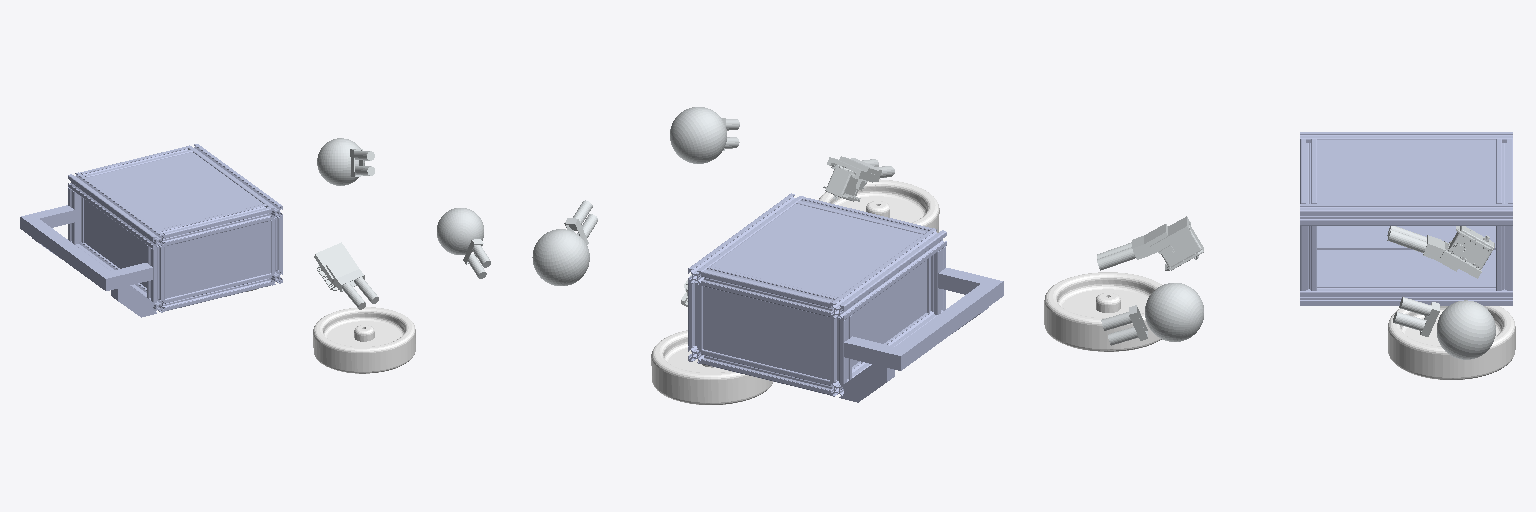
The robot description file, URDF, robot "toy_car":
<?xml version="1.0" encoding="utf-8"?>
<!-- This URDF was automatically created by SolidWorks to URDF Exporter! Originally created by Stephen Brawner ([email redacted]) 
     Commit Version: 1.5.1-0-g916b5db  Build Version: 1.5.7152.31018
     For more information, please see http://wiki.ros.org/sw_urdf_exporter -->
<robot name="toy_car">

<!--Replaced base link --> 

  <link name="base_link">
    <inertial>
      <origin
        xyz="0.11051 0.056657 0.15073"
        rpy="0 0 0" />
      <mass
        value="3.009" />
      <inertia
        ixx="0.0060171"
        ixy="-1.5807E-06"
        ixz="1.4125E-06"
        iyy="0.009034"
        iyz="3.2211E-07"
        izz="0.0038841" />
    </inertial>
    <visual>
      <origin
        xyz="0 0 0"
        rpy="0 0 0" />
      <geometry>
        <mesh
          filename="package://toy_car/meshes/base_link.STL" />
      </geometry>
      <material
        name="">
        <color
          rgba="0.79216 0.81961 0.93333 1" />
      </material>
    </visual>
    <collision>
      <origin
        xyz="0 0 0"
        rpy="0 0 0" />
      <geometry>
        <mesh
          filename="package://toy_car/meshes/base_link.STL" />
      </geometry>
    </collision>
  </link>

<!-- This case will be repeated four times -->


  <link name="front_left_suspension">
    <inertial>
      <origin
        xyz="-0.002691 -0.0093493 0.020223"
        rpy="0 0 0" />
      <mass
        value="0.067818" />
      <inertia
        ixx="2.1147E-05"
        ixy="-2.9194E-07"
        ixz="-1.3828E-07"
        iyy="1.0279E-05"
        iyz="7.5387E-07"
        izz="1.663E-05" />
    </inertial>
    <visual>
      <origin
        xyz="0 0 0"
        rpy="0 0 0" />
      <geometry>
        <mesh
          filename="package://toy_car/meshes/front_left_suspension.STL" />
      </geometry>
      <material
        name="">
        <color
          rgba="0.89804 0.91765 0.92941 1" />
      </material>
    </visual>
    <collision>
      <origin
        xyz="0 0 0"
        rpy="0 0 0" />
      <geometry>
        <mesh
          filename="package://toy_car/meshes/front_left_suspension.STL" />
      </geometry>
    </collision>
  </link>

  <joint name="front_left_suspension_joint" type="revolute">
    <origin
      xyz="0.0068751 -0.31978 0.076269"
      rpy="-1.9199 0.17453 -3.1416" />
    <parent
      link="base_link" />
    <child
      link="front_left_suspension" />
    <axis
      xyz="0 1 1" />
    <limit lower="-0.01" upper="0.01" effort="4" velocity="0.5"/>
    <dynamics damping="0.1" friction="0.3"/>
  </joint>

  <link name="front_left_wheel_case">
    <inertial>
      <origin
        xyz="0.025003 -0.048615 -0.035961"
        rpy="0 0 0" />
      <mass
        value="0.39081" />
      <inertia
        ixx="0.0007858"
        ixy="-2.9641E-09"
        ixz="1.6485E-08"
        iyy="0.00039594"
        iyz="-3.5931E-05"
        izz="0.00054805" />
    </inertial>
    <visual>
      <origin
        xyz="0 0 0"
        rpy="0 0 0" />
      <geometry>
        <mesh
          filename="package://toy_car/meshes/front_left_wheel_case.STL" />
      </geometry>
      <material
        name="">
        <color
          rgba="0.89804 0.91765 0.92941 1" />
      </material>
    </visual>
    <collision>
      <origin
        xyz="0 0 0"
        rpy="0 0 0" />
      <geometry>
        <mesh
          filename="package://toy_car/meshes/front_left_wheel_case.STL" />
      </geometry>
    </collision>
  </link>

  <joint name="front_left_wheel_case_joint" type="revolute">
    <origin
      xyz="0.023482 -0.027982 0.084083"
      rpy="-0.34417 -0.059426 2.9774" />
    <parent
      link="front_left_suspension" />
    <child
      link="front_left_wheel_case" />
    <axis
      xyz="0 0 1" />
    <limit lower="-0.01" upper="0.01" effort="4" velocity="0.5"/>
    <dynamics damping="0.8" friction="0.3"/>
  </joint>

  <link name="front_left_wheel">
    <inertial>
      <origin
        xyz="-5.2042E-18 0 0.02"
        rpy="0 0 0" />
      <mass
        value="0.389" />
      <inertia
        ixx="0.00072452"
        ixy="1.6941E-21"
        ixz="-1.1092E-20"
        iyy="0.00072452"
        iyz="5.1226E-22"
        izz="0.0013777" />
    </inertial>
    <visual>
      <origin
        xyz="0 0 0"
        rpy="0 0 0" />
      <geometry>
        <mesh
          filename="package://toy_car/meshes/front_left_wheel.STL" />
      </geometry>
      <material
        name="">
        <color
          rgba="1 1 1 1" />
      </material>
    </visual>
    <collision>
      <origin
        xyz="0 0 0"
        rpy="0 0 0" />
      <geometry>
        <mesh
          filename="package://toy_car/meshes/front_left_wheel.STL" />
      </geometry>
    </collision>
  </link>

  <joint name="front_left_wheel_joint" type="continuous">
    <origin
      xyz="0.025 -0.093 -0.05765"
      rpy="0 0 0.022928" />
    <parent
      link="front_left_wheel_case" />
    <child
      link="front_left_wheel" />
    <axis
      xyz="0 0 1" />
  </joint>

<!-- 2 -->

  <link name="front_right_suspension">
    <inertial>
      <origin
        xyz="-0.0026576 -0.0093548 -0.020221"
        rpy="0 0 0" />
      <mass
        value="0.067818" />
      <inertia
        ixx="2.1135E-05"
        ixy="-3.2305E-07"
        ixz="1.4338E-07"
        iyy="1.0289E-05"
        iyz="-7.5674E-07"
        izz="1.663E-05" />
    </inertial>
    <visual>
      <origin
        xyz="0 0 0"
        rpy="0 0 0" />
      <geometry>
        <mesh
          filename="package://toy_car/meshes/front_right_suspension.STL" />
      </geometry>
      <material
        name="">
        <color
          rgba="0.89804 0.91765 0.92941 1" />
      </material>
    </visual>
    <collision>
      <origin
        xyz="0 0 0"
        rpy="0 0 0" />
      <geometry>
        <mesh
          filename="package://toy_car/meshes/front_right_suspension.STL" />
      </geometry>
    </collision>
  </link>

  <joint name="front_right_suspension_joint" type="revolute">
    <origin
      xyz="0.0058738 0.02188 0.081948"
      rpy="-1.2217 0.17453 -3.1416" />
    <parent
      link="base_link" />
    <child
      link="front_right_suspension" />
    <axis
      xyz="0 1 1" />
    <limit lower="-0.01" upper="0.01" effort="4" velocity="0.5"/>
    <dynamics damping="0.1" friction="0.3"/>
  </joint>

  <link name="front_right_wheel_case">
    <inertial>
      <origin
        xyz="0.025003 -0.048615 -0.035961"
        rpy="0 0 0" />
      <mass
        value="0.39081" />
      <inertia
        ixx="0.0007858"
        ixy="-2.9641E-09"
        ixz="1.6485E-08"
        iyy="0.00039594"
        iyz="-3.5931E-05"
        izz="0.00054805" />
    </inertial>
    <visual>
      <origin
        xyz="0 0 0"
        rpy="0 0 0" />
      <geometry>
        <mesh
          filename="package://toy_car/meshes/front_right_wheel_case.STL" />
      </geometry>
      <material
        name="">
        <color
          rgba="0.89804 0.91765 0.92941 1" />
      </material>
    </visual>
    <collision>
      <origin
        xyz="0 0 0"
        rpy="0 0 0" />
      <geometry>
        <mesh
          filename="package://toy_car/meshes/front_right_wheel_case.STL" />
      </geometry>
    </collision>
  </link>

  <joint name="front_right_wheel_case_joint" type="revolute">
    <origin
      xyz="-0.02576 -0.019823 -0.087053"
      rpy="2.7974 -0.059426 -0.1642" />
    <parent
      link="front_right_suspension" />
    <child
      link="front_right_wheel_case" />
    <axis
      xyz="0 0 1" />
    <limit lower="-0.01" upper="0.01" effort="4" velocity="0.5"/>
    <dynamics damping="0.8" friction="0.3"/>

  </joint>

  <link name="front_right_wheel">
    <inertial>
      <origin
        xyz="-1.7347E-18 6.9389E-18 0.02"
        rpy="0 0 0" />
      <mass
        value="0.389" />
      <inertia
        ixx="0.00072452"
        ixy="-1.1858E-20"
        ixz="2.1113E-20"
        iyy="0.00072452"
        iyz="1.6032E-19"
        izz="0.0013777" />
    </inertial>
    <visual>
      <origin
        xyz="0 0 0"
        rpy="0 0 0" />
      <geometry>
        <mesh
          filename="package://toy_car/meshes/front_right_wheel.STL" />
      </geometry>
      <material
        name="">
        <color
          rgba="1 1 1 1" />
      </material>
    </visual>
    <collision>
      <origin
        xyz="0 0 0"
        rpy="0 0 0" />
      <geometry>
        <mesh
          filename="package://toy_car/meshes/front_right_wheel.STL" />
      </geometry>
    </collision>
  </link>

  <joint name="front_right_wheel_joint" type="continuous">
    <origin
      xyz="0.025 -0.093 -0.05765"
      rpy="0 0 0.022566" />
    <parent
      link="front_right_wheel_case" />
    <child
      link="front_right_wheel" />
    <axis
      xyz="0 0 1" />
  </joint>

<!-- 3 -->


  <link name="rear_left_suspension">
    <inertial>
      <origin
        xyz="0.0026576 -0.0093548 0.020221"
        rpy="0 0 0" />
      <mass
        value="0.067818" />
      <inertia
        ixx="2.1135E-05"
        ixy="3.2304E-07"
        ixz="1.4338E-07"
        iyy="1.029E-05"
        iyz="7.5671E-07"
        izz="1.663E-05" />
    </inertial>
    <visual>
      <origin
        xyz="0 0 0"
        rpy="0 0 0" />
      <geometry>
        <mesh
          filename="package://toy_car/meshes/rear_left_suspension.STL" />
      </geometry>
      <material
        name="">
        <color
          rgba="0.89804 0.91765 0.92941 1" />
      </material>
    </visual>
    <collision>
      <origin
        xyz="0 0 0"
        rpy="0 0 0" />
      <geometry>
        <mesh
          filename="package://toy_car/meshes/rear_left_suspension.STL" />
      </geometry>
    </collision>
  </link>

  <joint name="rear_left_suspension_joint" type="revolute">
    <origin
      xyz="0.2131 -0.31972 0.076111"
      rpy="-1.9199 -0.17453 3.1416" />
    <parent
      link="base_link" />
    <child
      link="rear_left_suspension" />
    <axis
      xyz="0 1 1" />
    <limit lower="-0.01" upper="0.01" effort="4" velocity="0.5"/>
    <dynamics damping="0.1" friction="0.3"/>
  </joint>

  <link name="rear_left_wheel_case">
    <inertial>
      <origin
        xyz="0.025003 -0.048615 -0.035961"
        rpy="0 0 0" />
      <mass
        value="0.39081" />
      <inertia
        ixx="0.0007858"
        ixy="-2.9641E-09"
        ixz="1.6485E-08"
        iyy="0.00039594"
        iyz="-3.5931E-05"
        izz="0.00054805" />
    </inertial>
    <visual>
      <origin
        xyz="0 0 0"
        rpy="0 0 0" />
      <geometry>
        <mesh
          filename="package://toy_car/meshes/rear_left_wheel_case.STL" />
      </geometry>
      <material
        name="">
        <color
          rgba="0.89804 0.91765 0.92941 1" />
      </material>
    </visual>
    <collision>
      <origin
        xyz="0 0 0"
        rpy="0 0 0" />
      <geometry>
        <mesh
          filename="package://toy_car/meshes/rear_left_wheel_case.STL" />
      </geometry>
    </collision>
  </link>

  <joint name="rear_left_wheel_case_joint" type="revolute">
    <origin
      xyz="0.02576 -0.019823 0.087053"
      rpy="-0.34417 0.059426 -2.9774" />
    <parent
      link="rear_left_suspension" />
    <child
      link="rear_left_wheel_case" />
    <axis
      xyz="0 0 1" />
    <limit lower="-0.01" upper="0.01" effort="4" velocity="0.5"/>
    <dynamics damping="0.8" friction="0.3"/>
  </joint>

  <link name="rear_left_wheel">
    <inertial>
      <origin
        xyz="0 3.4694E-18 0.02"
        rpy="0 0 0" />
      <mass
        value="0.389" />
      <inertia
        ixx="0.00072452"
        ixy="3.3881E-21"
        ixz="-1.8234E-21"
        iyy="0.00072452"
        iyz="3.023E-22"
        izz="0.0013777" />
    </inertial>
    <visual>
      <origin
        xyz="0 0 0"
        rpy="0 0 0" />
      <geometry>
        <mesh
          filename="package://toy_car/meshes/rear_left_wheel.STL" />
      </geometry>
      <material
        name="">
        <color
          rgba="1 1 1 1" />
      </material>
    </visual>
    <collision>
      <origin
        xyz="0 0 0"
        rpy="0 0 0" />
      <geometry>
        <mesh
          filename="package://toy_car/meshes/rear_left_wheel.STL" />
      </geometry>
    </collision>
  </link>

  <joint name="rear_left_wheel_joint" type="continuous">
    <origin
      xyz="0.025 -0.093 -0.05765"
      rpy="0 0 0.022928" />
    <parent
      link="rear_left_wheel_case" />
    <child
      link="rear_left_wheel" />
    <axis
      xyz="0 0 1" />
  </joint>

<!-- 4 -->


  <link name="rear_right_suspension">
    <inertial>
      <origin
        xyz="0.002691 -0.0093493 -0.020223"
        rpy="0 0 0" />
      <mass
        value="0.067818" />
      <inertia
        ixx="2.1147E-05"
        ixy="2.9193E-07"
        ixz="-1.3828E-07"
        iyy="1.0279E-05"
        iyz="-7.5391E-07"
        izz="1.663E-05" />
    </inertial>
    <visual>
      <origin
        xyz="0 0 0"
        rpy="0 0 0" />
      <geometry>
        <mesh
          filename="package://toy_car/meshes/rear_right_suspension.STL" />
      </geometry>
      <material
        name="">
        <color
          rgba="0.89804 0.91765 0.92941 1" />
      </material>
    </visual>
    <collision>
      <origin
        xyz="0 0 0"
        rpy="0 0 0" />
      <geometry>
        <mesh
          filename="package://toy_car/meshes/rear_right_suspension.STL" />
      </geometry>
    </collision>
  </link>

  <joint name="rear_right_suspension_joint" type="revolute">
    <origin
      xyz="0.2146 0.022879 0.08465"
      rpy="-1.2217 -0.17453 -3.1416" />
    <parent
      link="base_link" />
    <child
      link="rear_right_suspension" />
    <axis
      xyz="0 1 1" />
    <limit lower="-0.01" upper="0.01" effort="4" velocity="0.5"/>
    <dynamics damping="0.1" friction="0.3"/>
  </joint>

  <link name="rear_right_wheel_case">
    <inertial>
      <origin
        xyz="0.025003 -0.048615 -0.035961"
        rpy="0 0 0" />
      <mass
        value="0.39081" />
      <inertia
        ixx="0.0007858"
        ixy="-2.9641E-09"
        ixz="1.6485E-08"
        iyy="0.00039594"
        iyz="-3.5931E-05"
        izz="0.00054805" />
    </inertial>
    <visual>
      <origin
        xyz="0 0 0"
        rpy="0 0 0" />
      <geometry>
        <mesh
          filename="package://toy_car/meshes/rear_right_wheel_case.STL" />
      </geometry>
      <material
        name="">
        <color
          rgba="0.89804 0.91765 0.92941 1" />
      </material>
    </visual>
    <collision>
      <origin
        xyz="0 0 0"
        rpy="0 0 0" />
      <geometry>
        <mesh
          filename="package://toy_car/meshes/rear_right_wheel_case.STL" />
      </geometry>
    </collision>
  </link>

  <joint name="rear_right_wheel_case_joint" type="revolute">
    <origin
      xyz="-0.023482 -0.027982 -0.084083"
      rpy="2.7974 0.059426 0.1642" />
    <parent
      link="rear_right_suspension" />
    <child
      link="rear_right_wheel_case" />
    <axis
      xyz="0 0 1" />
    <limit lower="-0.01" upper="0.01" effort="4" velocity="0.5"/>
    <dynamics damping="0.8" friction="0.3"/>
  </joint>

  <link name="rear_right_wheel">
    <inertial>
      <origin
        xyz="0 0 0.02"
        rpy="0 0 0" />
      <mass
        value="0.389" />
      <inertia
        ixx="0.00072452"
        ixy="-1.6941E-21"
        ixz="3.2856E-20"
        iyy="0.00072452"
        iyz="-1.2508E-20"
        izz="0.0013777" />
    </inertial>
    <visual>
      <origin
        xyz="0 0 0"
        rpy="0 0 0" />
      <geometry>
        <mesh
          filename="package://toy_car/meshes/rear_right_wheel.STL" />
      </geometry>
      <material
        name="">
        <color
          rgba="1 1 1 1" />
      </material>
    </visual>
    <collision>
      <origin
        xyz="0 0 0"
        rpy="0 0 0" />
      <geometry>
        <mesh
          filename="package://toy_car/meshes/rear_right_wheel.STL" />
      </geometry>
    </collision>
  </link>

  <joint name="rear_right_wheel_joint" type="continuous">
    <origin
      xyz="0.025 -0.093 -0.05765"
      rpy="0 0 0.022566" />
    <parent
      link="rear_right_wheel_case" />
    <child
      link="rear_right_wheel" />
    <axis
      xyz="0 0 1" />
  </joint>


<!-- Transmission -->

  <transmission name="tran_left_wheel">
    <type>transmission_interface/SimpleTransmission</type>
    <joint name="front_left_wheel_joint">
      <hardwareInterface>VelocityJointInterface</hardwareInterface>
    </joint>
    <actuator name="motor1">
      <hardwareInterface>VelocityJointInterface</hardwareInterface>
      <mechanicalReduction>1</mechanicalReduction>
    </actuator>
  </transmission>

  <transmission name="tran_right_wheel">
    <type>transmission_interface/SimpleTransmission</type>
    <joint name="front_right_wheel_joint">
      <hardwareInterface>VelocityJointInterface</hardwareInterface>
    </joint>
    <actuator name="motor2">
      <hardwareInterface>VelocityJointInterface</hardwareInterface>
      <mechanicalReduction>1</mechanicalReduction>
    </actuator>
  </transmission>

  <gazebo>
    <plugin name="gazebo_ros_control" filename="libgazebo_ros_control.so">
      <robotNamespace>/toy_car</robotNamespace>
    </plugin>
  </gazebo>

</robot>

--- What the picture shows (computed from the rendered views, not written in the file) ---
Views: 3 orthographic renders of the robot side by side, from view 1: azimuth 30°, elevation 25°; view 2: azimuth 150°, elevation 25°; view 3: azimuth 270°, elevation 25°.
Model toy_car with 13 links and 12 joints (8 revolute, 4 continuous), rooted at base_link, posed every joint at zero.
Visible links, largest first — view 1: base_link, front_left_wheel, rear_left_suspension, front_left_suspension, rear_right_suspension; view 2: base_link, front_right_wheel, rear_right_suspension, front_left_wheel, rear_left_suspension, front_left_suspension; view 3: base_link, front_left_wheel, front_right_wheel, rear_right_suspension, rear_left_suspension, front_left_suspension, front_right_suspension.
Link boxes in pixels (x1,y1,x2,y2): base_link: (20,144,282,317); front_left_wheel: (313,307,415,373); rear_left_suspension: (437,208,490,278); front_left_suspension: (314,242,378,309); rear_right_suspension: (317,138,374,185); base_link: (688,193,1003,402); front_right_wheel: (651,330,772,404); rear_right_suspension: (532,200,597,285); front_left_wheel: (819,179,939,232); rear_left_suspension: (670,107,739,163); front_left_suspension: (823,156,894,201); base_link: (1300,132,1512,305); front_left_wheel: (1044,272,1161,351); front_right_wheel: (1388,306,1515,379); rear_right_suspension: (1393,297,1495,359); rear_left_suspension: (1101,283,1203,345); front_left_suspension: (1097,216,1203,270); front_right_suspension: (1387,226,1494,278).
Bounding box of the posed robot: 0.5495 × 0.5534 × 0.1871 m (x, y, z).
Meshes: 13 distinct files referenced, 7 mesh visuals loaded (7 binary STL); not drawn: 6 (reference not matched to a file when rendering).
